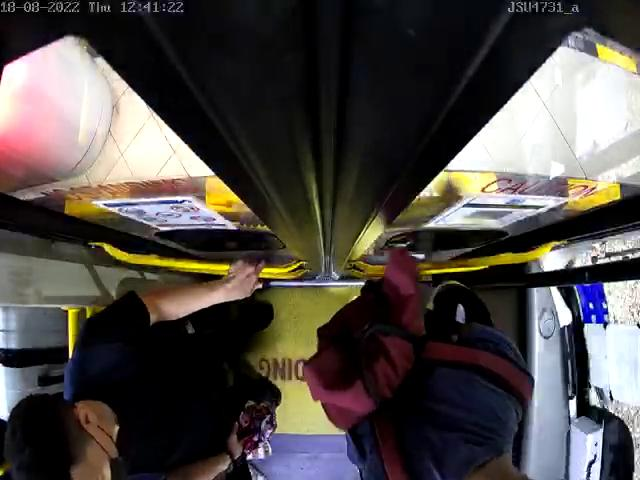close: (0, 0, 640, 204)
